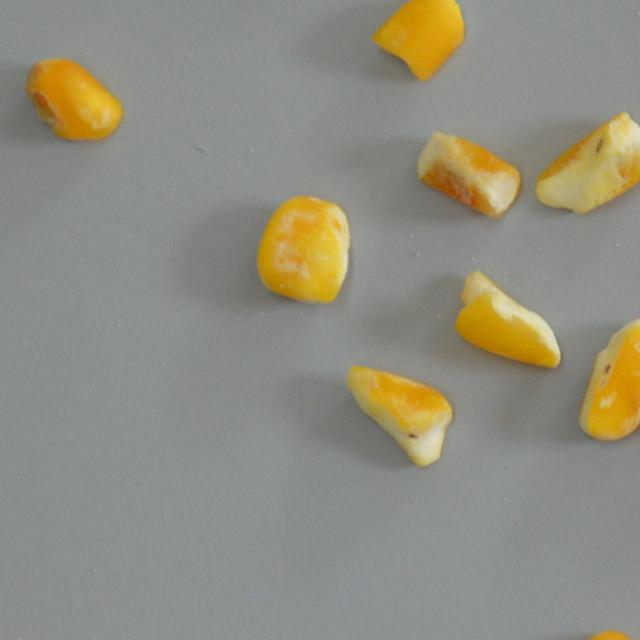dañado: (252, 194, 362, 310), (416, 128, 525, 222), (26, 56, 126, 143), (558, 624, 640, 640)
estandar: (368, 0, 468, 82)
pelicula: (454, 267, 560, 368)
punto_negro: (344, 361, 454, 469), (532, 110, 640, 216), (576, 312, 640, 448)
